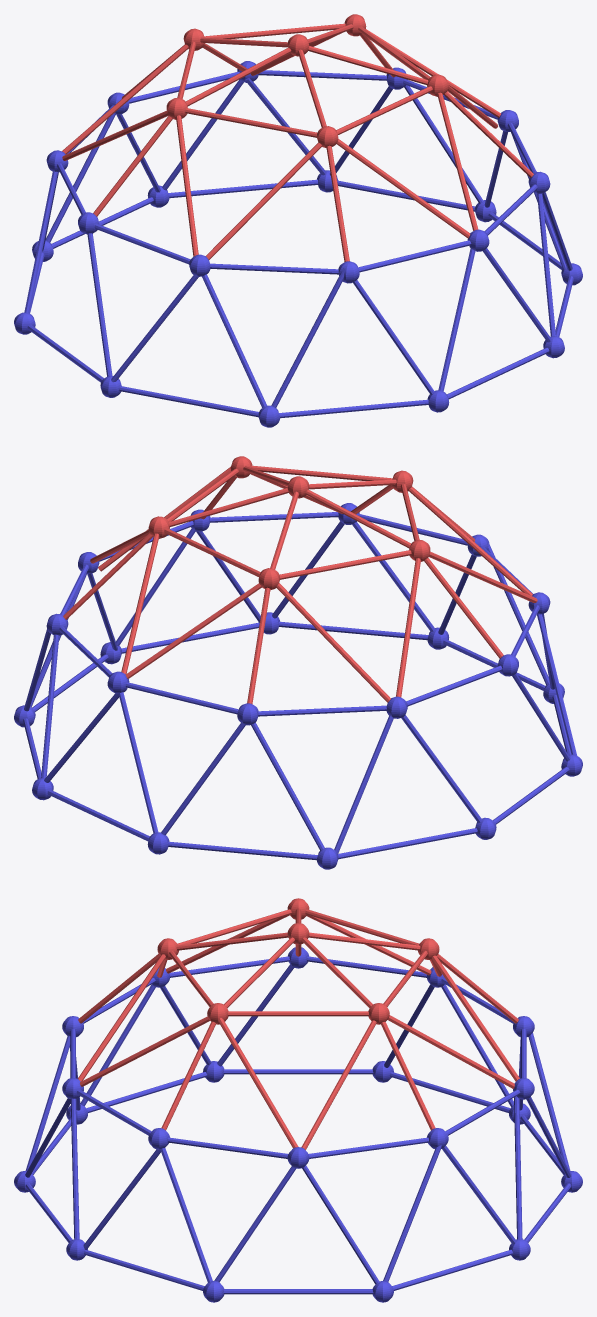
The model's file is паутинка.fbx.
The picture shows the model from 3 angles, top to bottom: view 1: azimuth 30°, elevation 25°; view 2: azimuth 150°, elevation 25°; view 3: azimuth 270°, elevation 25°; orthographic projection. The views are drawn at different scales.
Parts seen in each view (by area): view 1: Cylinder.047, Cylinder.061, Cylinder.016, Cylinder.063, Cylinder.042, Cylinder.056, Cylinder.040, Cylinder.041, Cylinder.062, Cylinder.038, Cylinder.018, Cylinder.043 (+28 smaller); view 2: Cylinder.061, Cylinder.016, Cylinder.012, Cylinder.060, Cylinder.052, Cylinder.032, Cylinder.037, Cylinder.036, Cylinder.014, Cylinder.039, Cylinder.053, Cylinder.034 (+29 smaller); view 3: Cylinder.047, Cylinder.049, Cylinder.012, Cylinder.059, Cylinder.031, Cylinder.033, Cylinder.010, Cylinder.046, Cylinder.060, Cylinder.048, Cylinder.018, Cylinder.009 (+31 smaller).
Boxes of the visible parts, left/top/right/bottom form: Cylinder.047: left=336, top=139, right=470, bottom=238; Cylinder.061: left=62, top=44, right=188, bottom=154; Cylinder.016: left=206, top=143, right=322, bottom=259; Cylinder.063: left=271, top=268, right=345, bottom=407; Cylinder.042: left=202, top=274, right=266, bottom=407; Cylinder.056: left=279, top=399, right=428, bottom=418; Cylinder.040: left=87, top=233, right=112, bottom=376; Cylinder.041: left=438, top=249, right=475, bottom=391; Cylinder.062: left=176, top=115, right=198, bottom=256; Cylinder.038: left=24, top=171, right=57, bottom=313; Cylinder.018: left=437, top=92, right=478, bottom=230; Cylinder.043: left=537, top=193, right=555, bottom=336; Cylinder.061: left=276, top=583, right=390, bottom=702; Cylinder.016: left=408, top=487, right=532, bottom=595; Cylinder.012: left=125, top=583, right=261, bottom=678; Cylinder.060: left=121, top=533, right=159, bottom=674; Cylinder.052: left=168, top=841, right=317, bottom=860; Cylinder.032: left=41, top=634, right=59, bottom=777; Cylinder.037: left=334, top=715, right=393, bottom=854; Cylinder.036: left=251, top=722, right=324, bottom=850; Cylinder.014: left=396, top=558, right=420, bottom=697; Cylinder.039: left=537, top=614, right=577, bottom=755; Cylinder.053: left=338, top=828, right=477, bottom=859; Cylinder.034: left=118, top=692, right=158, bottom=833; Cylinder.047: left=77, top=954, right=165, bottom=1081; Cylinder.049: left=218, top=1018, right=298, bottom=1148; Cylinder.012: left=431, top=955, right=519, bottom=1081; Cylinder.059: left=223, top=1289, right=373, bottom=1294; Cylinder.031: left=383, top=1145, right=441, bottom=1282; Cylinder.033: left=514, top=1096, right=522, bottom=1239; Cylinder.010: left=301, top=1020, right=376, bottom=1150; Cylinder.046: left=70, top=1098, right=79, bottom=1239; Cylinder.060: left=388, top=1015, right=514, bottom=1088; Cylinder.048: left=160, top=1148, right=212, bottom=1282; Cylinder.018: left=80, top=1016, right=209, bottom=1086; Cylinder.009: left=228, top=1011, right=368, bottom=1016.
Bounding box in the file's own units: 396 × 216 × 416.
